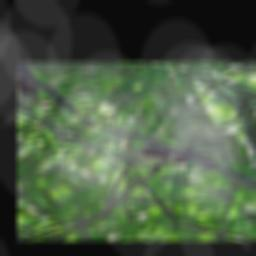Cuckoo: (104, 109, 256, 197)
